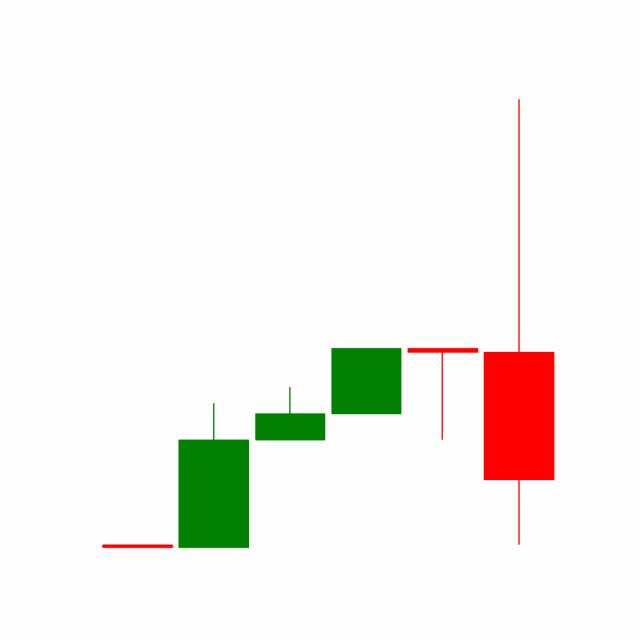Dragonfly Doji: (403, 346, 481, 441)
